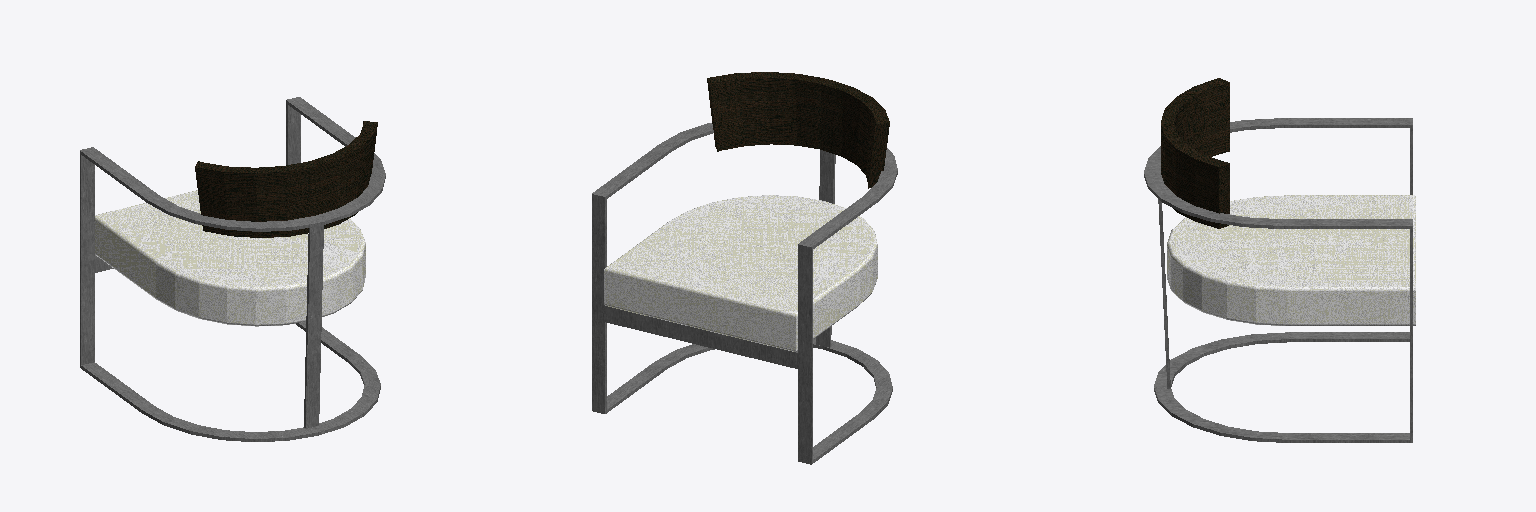
3 renders of one model, left to right at view 1: azimuth 30°, elevation 25°; view 2: azimuth 150°, elevation 25°; view 3: azimuth 270°, elevation 25°, orthographic.
Visible parts, largest first — view 1: mesh1_mesh1-geometry, mesh3_mesh3-geometry, mesh5_mesh5-geometry; view 2: mesh1_mesh1-geometry, mesh3_mesh3-geometry, mesh5_mesh5-geometry; view 3: mesh1_mesh1-geometry, mesh3_mesh3-geometry, mesh5_mesh5-geometry.
Part boxes in pixels (x1,y1,x2,y2): mesh1_mesh1-geometry: (95, 190, 365, 326); mesh3_mesh3-geometry: (80, 97, 385, 441); mesh5_mesh5-geometry: (195, 121, 377, 237); mesh1_mesh1-geometry: (604, 195, 877, 351); mesh3_mesh3-geometry: (592, 123, 897, 464); mesh5_mesh5-geometry: (707, 72, 889, 188); mesh1_mesh1-geometry: (1167, 195, 1415, 325); mesh3_mesh3-geometry: (1144, 118, 1412, 442); mesh5_mesh5-geometry: (1161, 78, 1229, 228).
Size of the model in its own units: 0.5352 by 0.6199 by 0.5738.
5 materials, 3 textured.